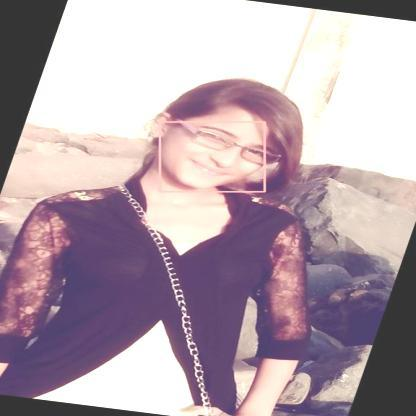without_mask: (160, 122, 264, 192)
